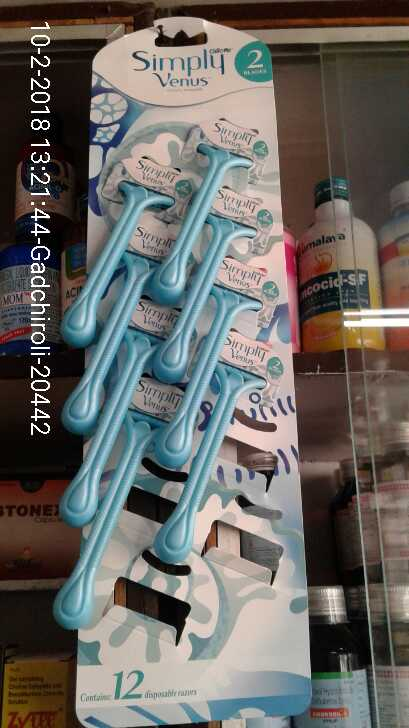reject: (96, 137, 266, 224)
